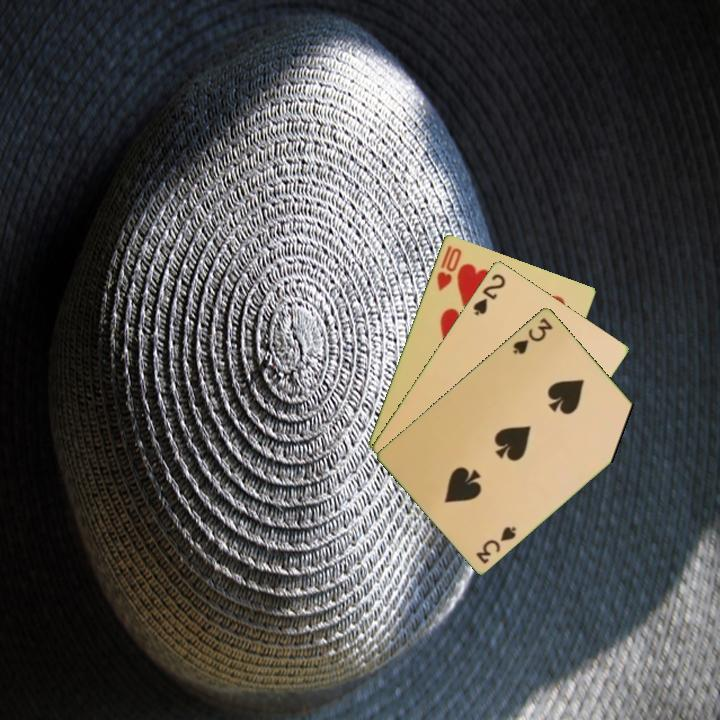10h: (433, 242, 464, 294)
2s: (469, 270, 508, 318)
3s: (472, 522, 519, 567), (509, 314, 556, 357)
